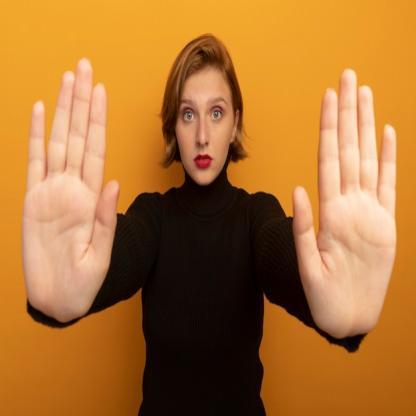stop: (292, 63, 398, 339), (21, 52, 121, 326)
